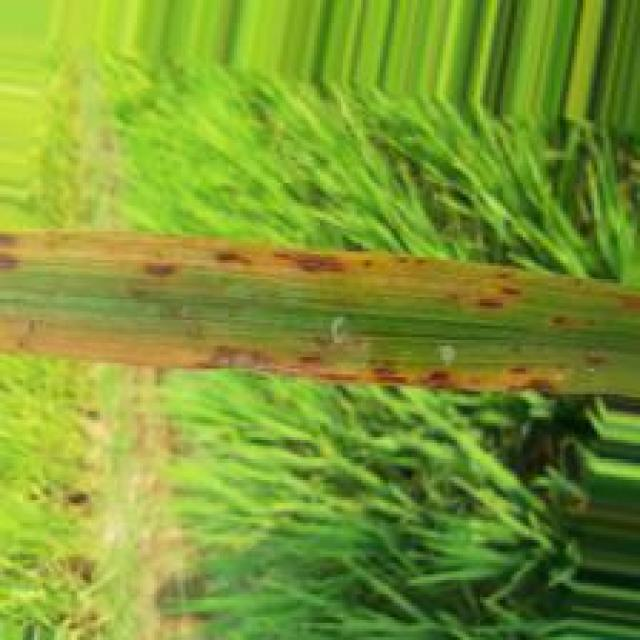Narrow_Brown_Leaf_Spot: (0, 229, 640, 318), (1, 317, 617, 398)
